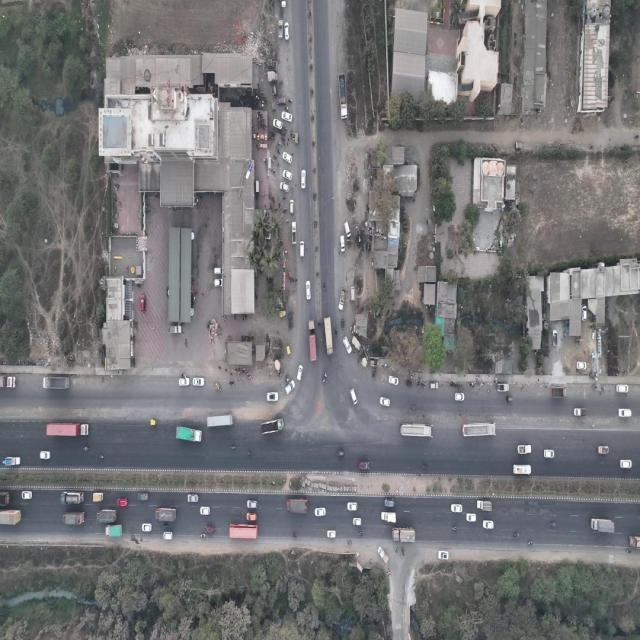3W: (289, 317, 294, 332), (279, 309, 287, 318), (286, 345, 292, 357), (150, 418, 158, 427), (294, 132, 299, 146), (337, 449, 345, 457), (287, 311, 294, 320), (506, 396, 514, 403), (341, 318, 345, 331), (407, 379, 413, 387)
Bus: (461, 420, 498, 438), (399, 421, 434, 440), (229, 523, 258, 541), (260, 418, 285, 435), (513, 464, 531, 476)
Cars: (343, 335, 353, 356), (617, 406, 633, 419), (284, 380, 295, 396), (350, 385, 358, 407), (246, 497, 258, 511), (272, 117, 284, 131), (388, 372, 399, 387), (21, 489, 34, 501), (178, 374, 191, 386), (379, 396, 391, 409), (383, 497, 395, 510), (437, 548, 450, 560), (450, 502, 463, 514), (280, 110, 293, 122), (305, 280, 312, 302), (266, 390, 278, 402), (616, 383, 628, 395), (620, 457, 632, 469), (278, 181, 290, 193), (313, 508, 327, 518), (552, 329, 559, 348), (344, 220, 351, 239), (39, 449, 50, 461), (193, 376, 205, 387), (297, 362, 303, 384), (358, 460, 370, 471), (347, 500, 358, 512), (482, 519, 494, 530), (543, 448, 555, 459), (454, 391, 466, 402), (282, 152, 293, 164), (245, 512, 258, 522), (284, 21, 290, 42), (576, 360, 587, 371), (187, 494, 199, 504), (199, 506, 211, 516), (205, 524, 215, 536), (352, 515, 362, 527), (465, 513, 477, 523), (598, 445, 610, 455), (300, 170, 306, 190), (299, 240, 305, 259), (140, 295, 146, 314), (118, 497, 128, 508), (326, 528, 337, 538), (282, 170, 293, 180), (138, 492, 148, 502), (142, 522, 152, 532), (582, 303, 587, 323), (163, 531, 174, 540), (276, 97, 287, 106), (289, 200, 295, 216), (429, 381, 438, 390), (214, 278, 223, 287), (340, 236, 345, 252), (214, 267, 222, 274)
LCV: (476, 499, 493, 514), (338, 286, 347, 312), (381, 510, 396, 523), (573, 406, 588, 418), (3, 456, 21, 466), (516, 445, 532, 455), (292, 220, 298, 246), (167, 325, 182, 335), (496, 383, 511, 392), (93, 493, 103, 503), (278, 19, 283, 39)
M2W: (548, 520, 558, 528), (356, 531, 364, 537), (402, 546, 406, 557), (452, 526, 459, 532), (513, 531, 520, 537), (527, 540, 534, 546), (321, 376, 326, 384), (84, 446, 90, 452), (163, 522, 169, 528), (292, 532, 298, 538), (245, 451, 252, 456), (295, 274, 298, 285), (334, 327, 338, 335), (99, 454, 105, 459), (200, 533, 206, 538), (347, 540, 352, 546), (422, 464, 428, 469), (626, 549, 632, 554), (411, 405, 417, 410), (323, 371, 328, 377), (230, 445, 236, 449), (323, 281, 325, 291)
MAV: (46, 423, 89, 437)
Truck: (175, 424, 203, 445), (337, 72, 348, 122), (285, 496, 310, 516), (323, 313, 334, 358), (308, 317, 318, 365), (206, 414, 236, 429), (590, 517, 615, 535), (392, 526, 416, 544), (43, 377, 70, 390), (62, 512, 85, 526), (59, 492, 84, 504), (156, 507, 176, 522), (104, 524, 123, 538), (97, 510, 117, 523), (550, 386, 567, 398)
